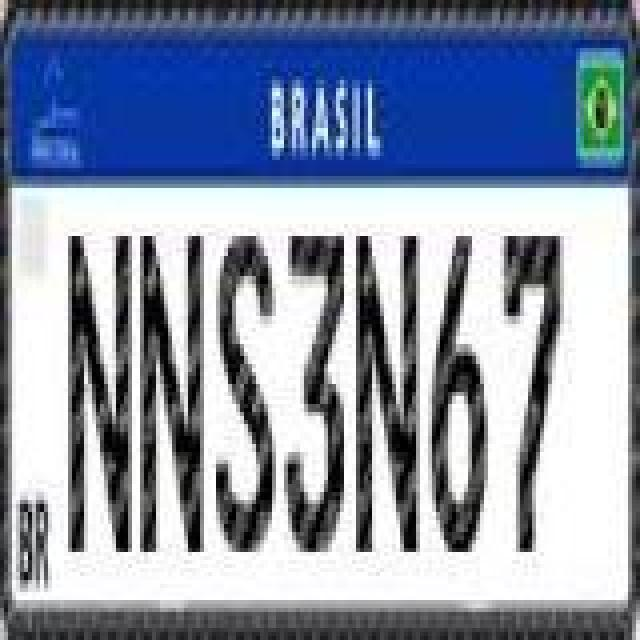3: (280, 230, 344, 554)
6: (426, 220, 486, 556)
7: (496, 226, 560, 550)
N: (66, 230, 134, 554), (138, 230, 206, 554), (356, 230, 420, 554)
S: (212, 224, 276, 560)
